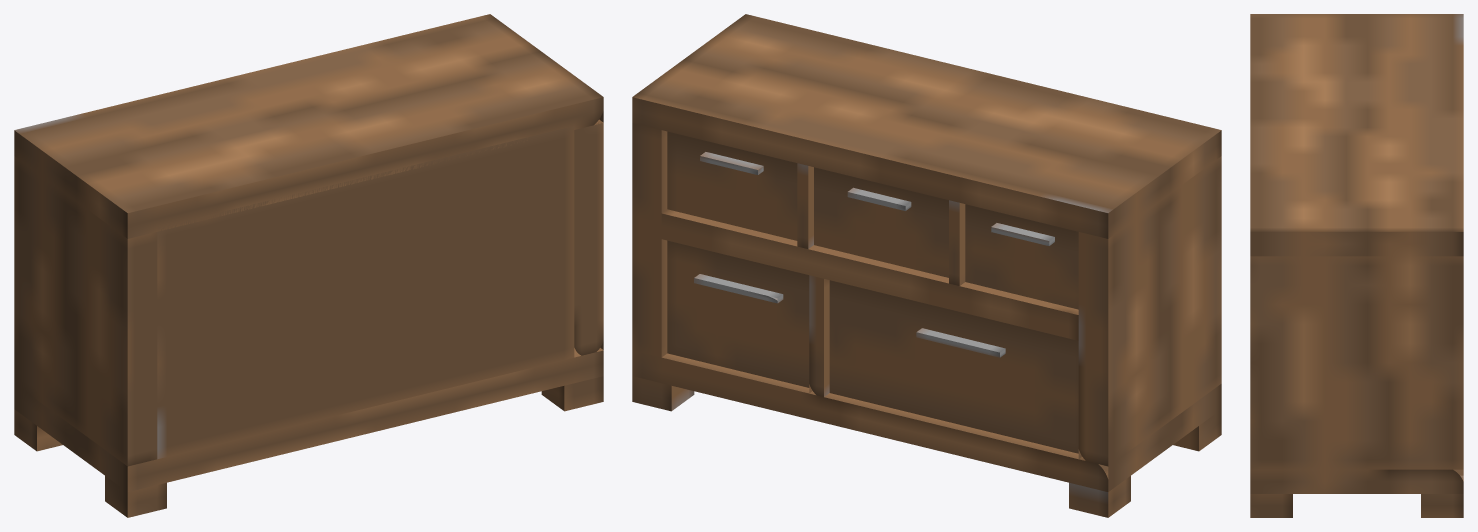
The model's file is dresser.fbx.
The picture shows the model from 3 angles, left to right: view 1: azimuth 30°, elevation 25°; view 2: azimuth 150°, elevation 25°; view 3: azimuth 270°, elevation 25°; orthographic projection. The views are drawn at different scales.
Visible parts, largest first — view 1: cube_4, cube_1, cube_2, cube, cube_3, cube_9, cube_10, cube_8; view 2: cube_4, cube_1, cube_2, cube, cube_12, cube_3, cube_5, cube_8, cube_13, cube_14, cube_11, cube_6 (+5 smaller); view 3: cube_1, cube_3, cube, cube_11, cube_10.
Part boxes in pixels (x1,y1,x2,y2): cube_4: (157, 126, 574, 459); cube_1: (14, 14, 603, 238); cube_2: (14, 156, 157, 466); cube: (14, 350, 603, 491); cube_3: (574, 120, 603, 357); cube_9: (105, 476, 166, 517); cube_10: (541, 376, 603, 411); cube_8: (14, 409, 62, 451); cube_4: (667, 131, 1078, 453); cube_1: (632, 14, 1221, 238); cube_2: (1078, 156, 1221, 466); cube: (632, 350, 1221, 491); cube_12: (661, 209, 1078, 340); cube_3: (632, 123, 667, 357); cube_5: (809, 275, 829, 396); cube_8: (1069, 469, 1130, 517); cube_13: (797, 163, 813, 248); cube_14: (949, 200, 965, 285); cube_11: (632, 376, 694, 411); cube_6: (916, 328, 1005, 357); cube_1: (1250, 14, 1463, 256); cube_3: (1250, 256, 1463, 469); cube: (1250, 469, 1463, 493); cube_11: (1421, 475, 1463, 517); cube_10: (1250, 494, 1292, 517).
Size of the model in its own units: 151 by 92.5 by 62.5.
Materials: 1 (1 with a texture image).
